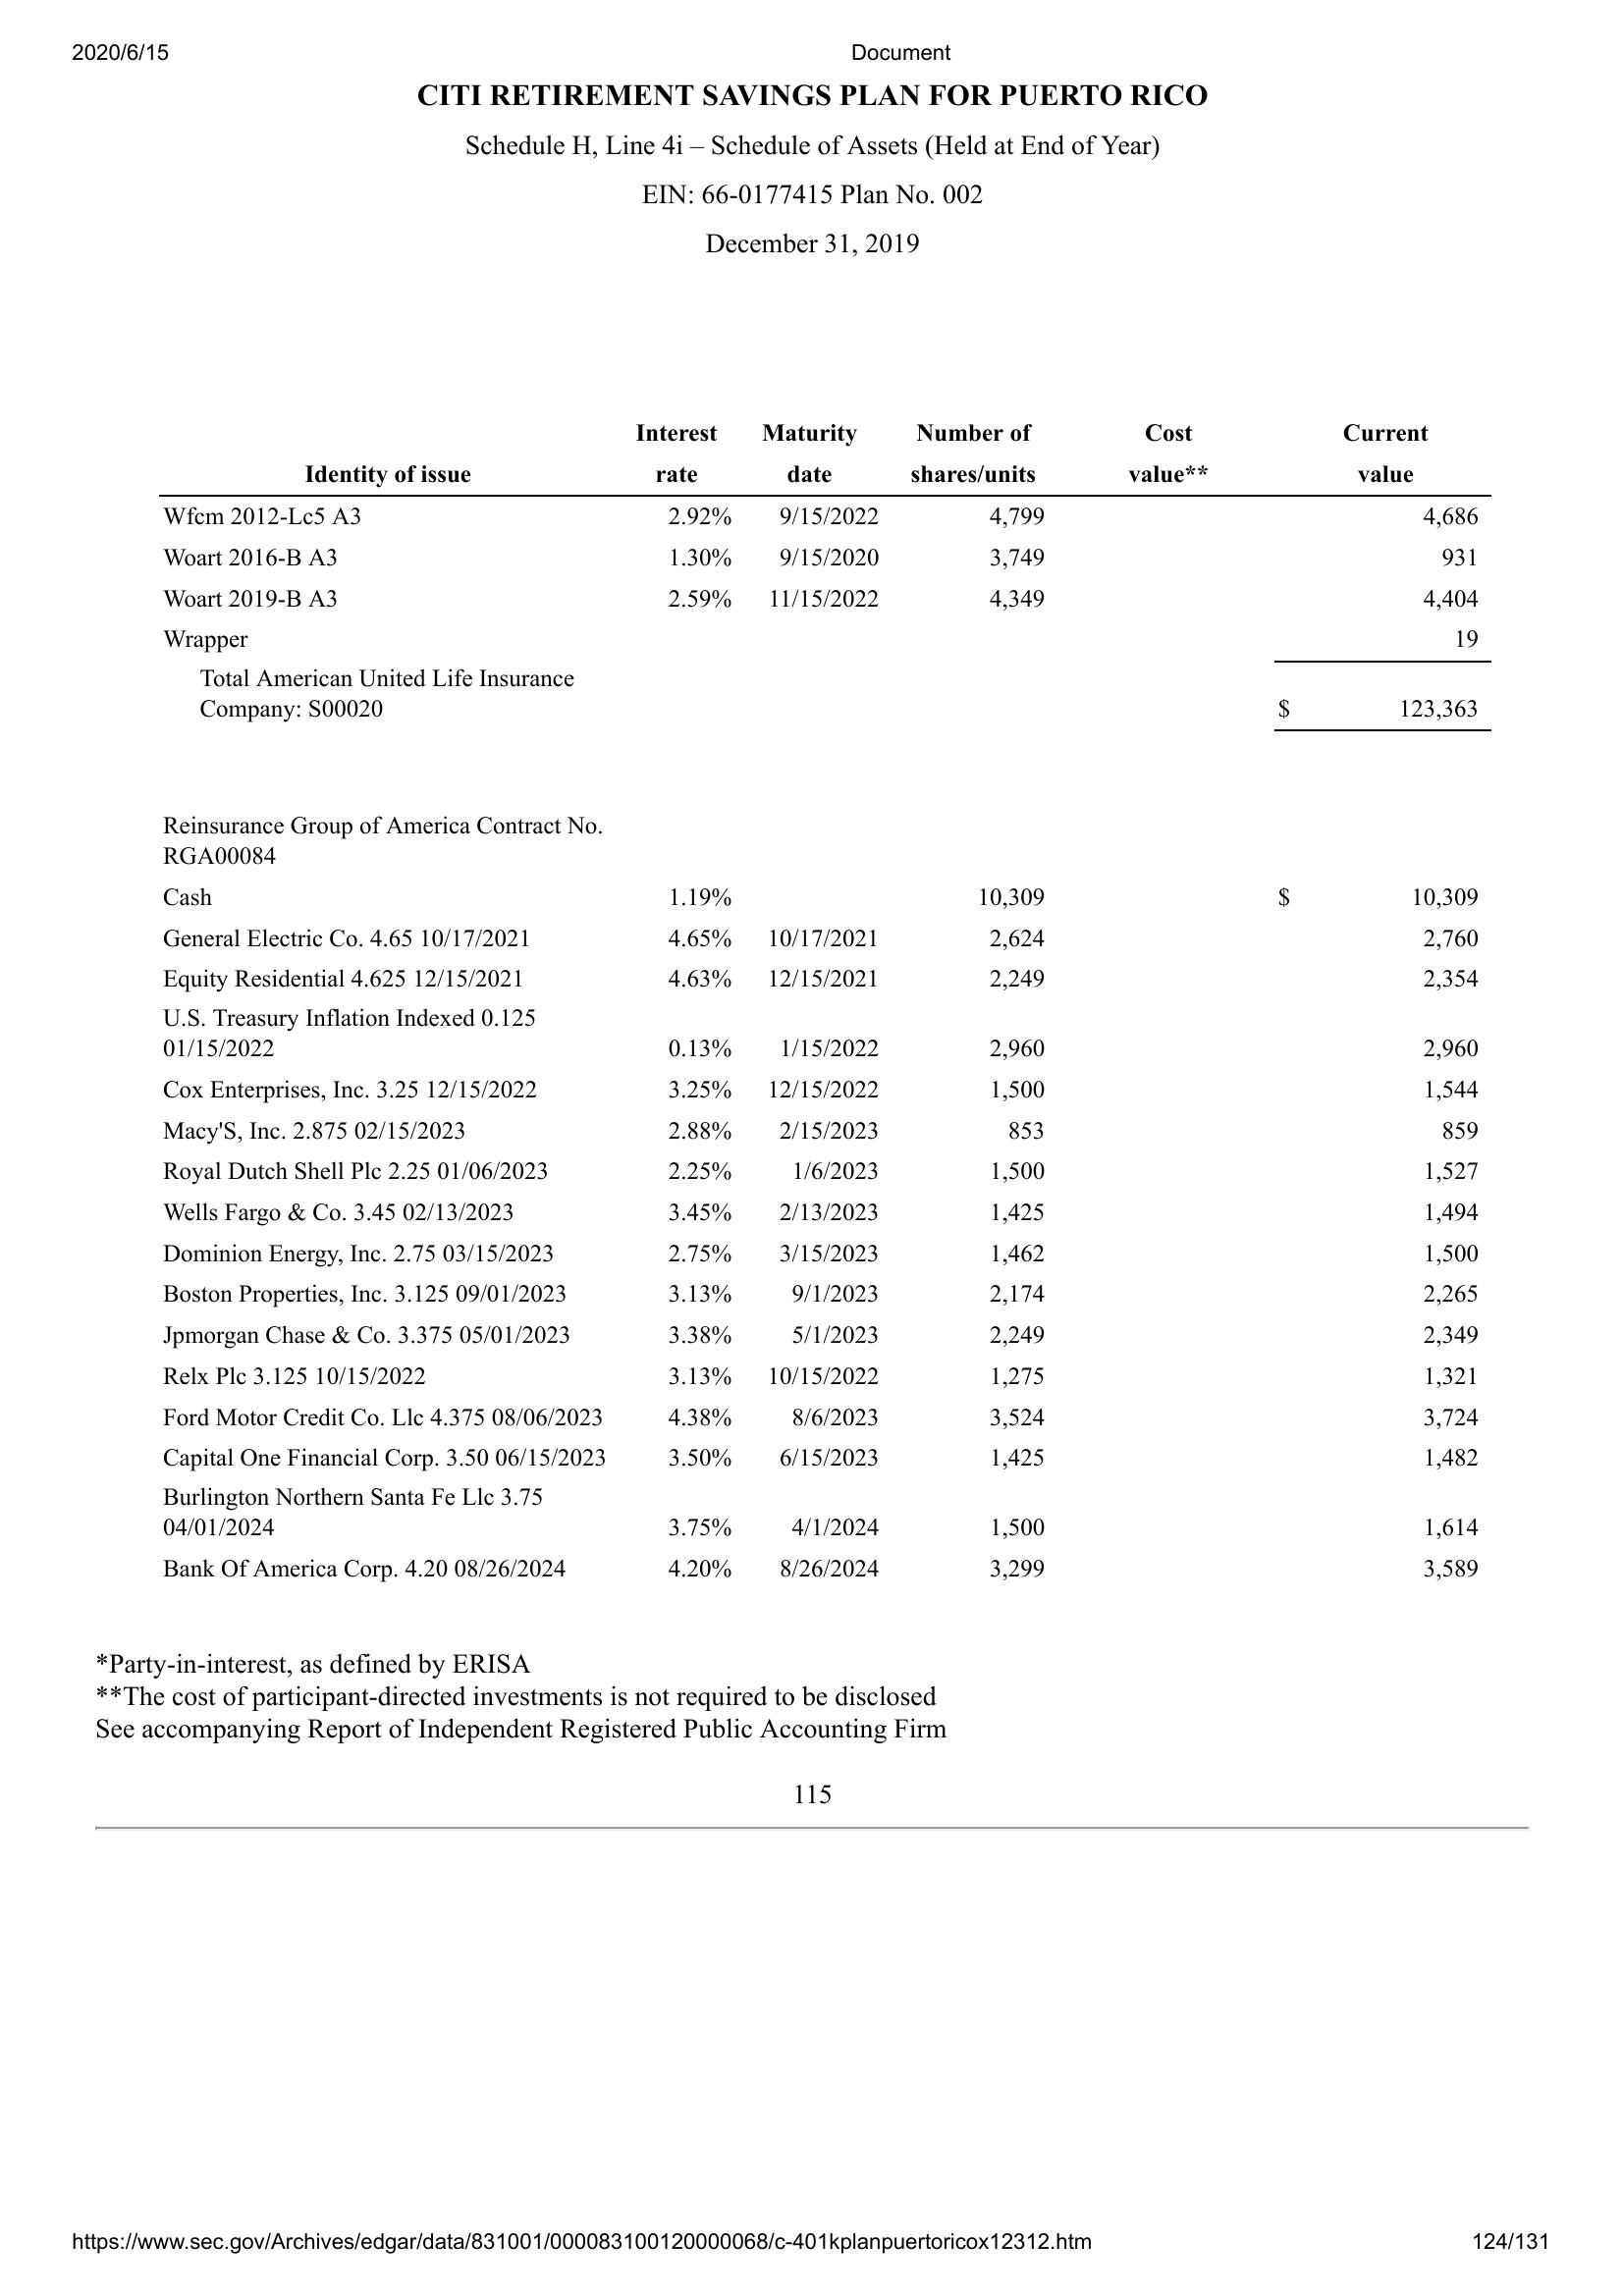table: (151, 413, 1495, 1610)
